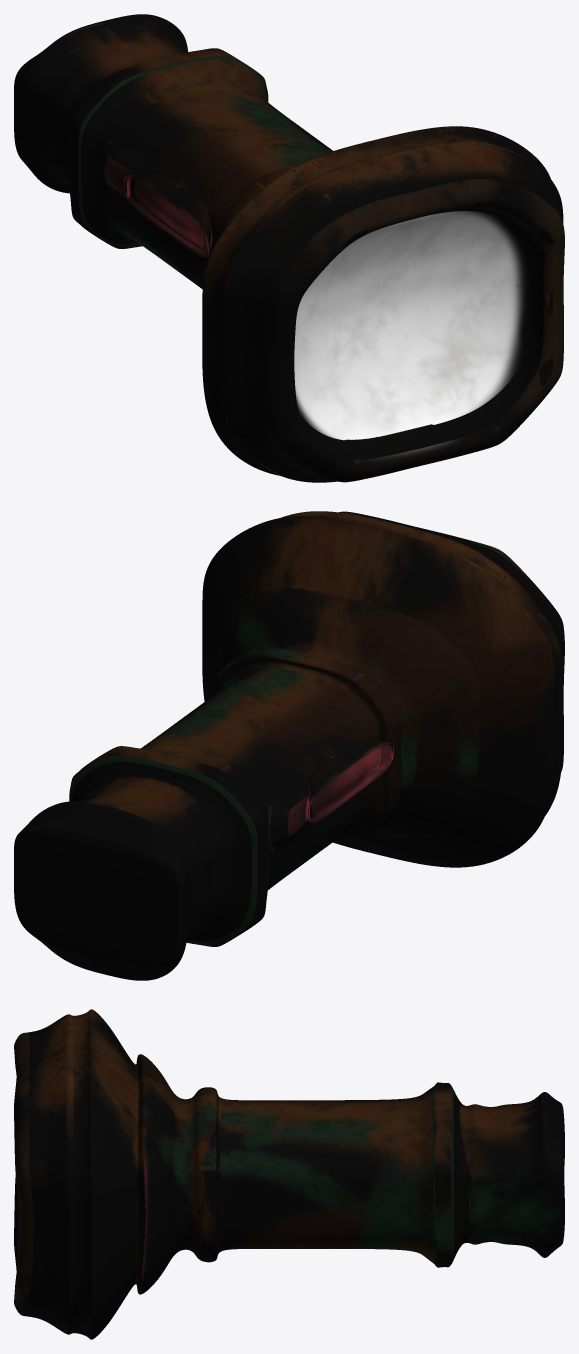
File: flashlight.fbx
3 renders of one model, top to bottom at view 1: azimuth 30°, elevation 25°; view 2: azimuth 150°, elevation 25°; view 3: azimuth 270°, elevation 25°, orthographic. The views are drawn at different scales.
Parts seen in each view (by area): view 1: Cube; view 2: Cube; view 3: Cube.
Boxes of the visible parts, x1,y1,x2,y2 form: Cube: (14,14,564,482); Cube: (14,511,564,980); Cube: (14,1009,564,1339).
Bounding box in the file's own units: 398 × 351 × 647.
Materials: 1 (1 with a texture image).
